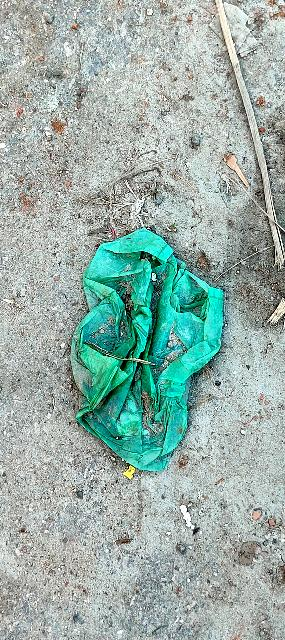polythene: (39, 222, 244, 481)
